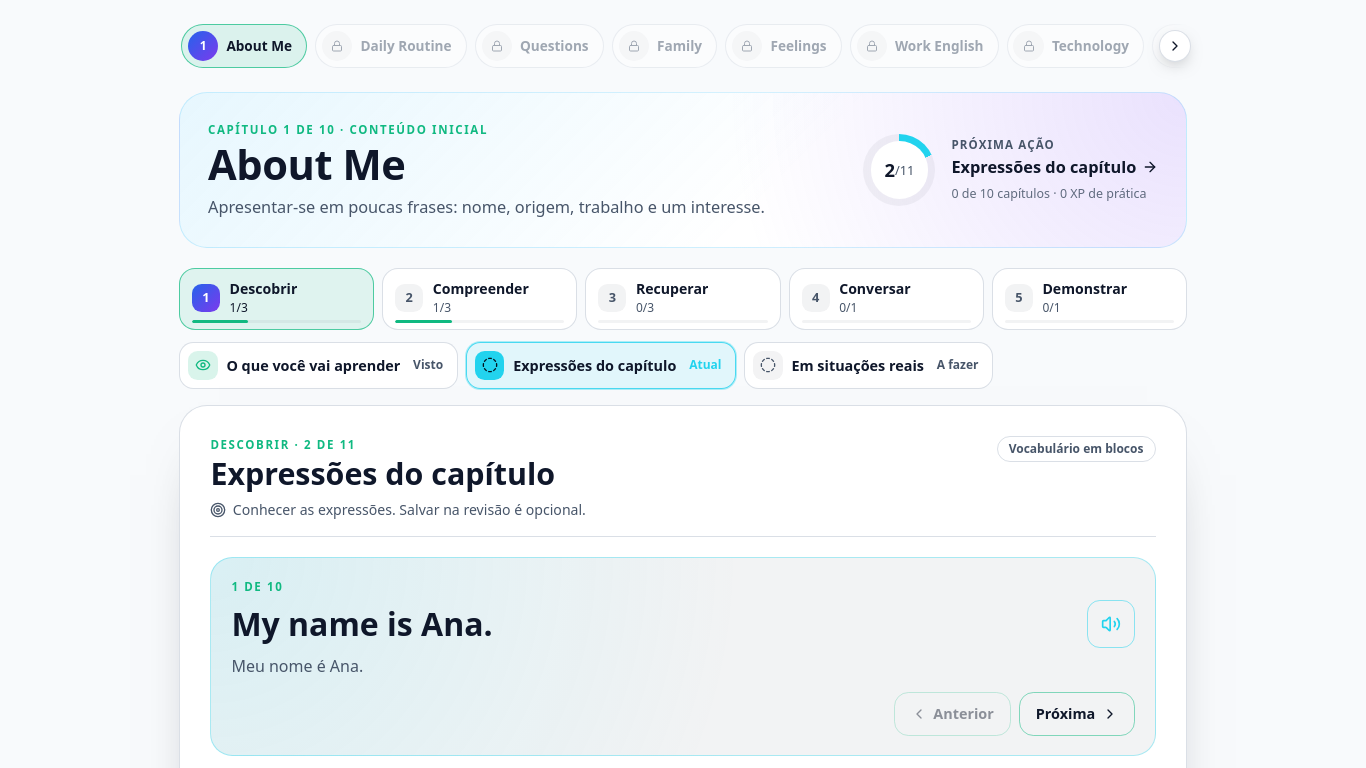
Test: Journey 2.1 navigation and completion › never shows a viewed activity as approved
Expected: the button "O que você vai aprender Visto" is shown, [179,342,458,388]
Click the button "2 Compreender 1/3" at (480, 299), box [382,268,577,330]
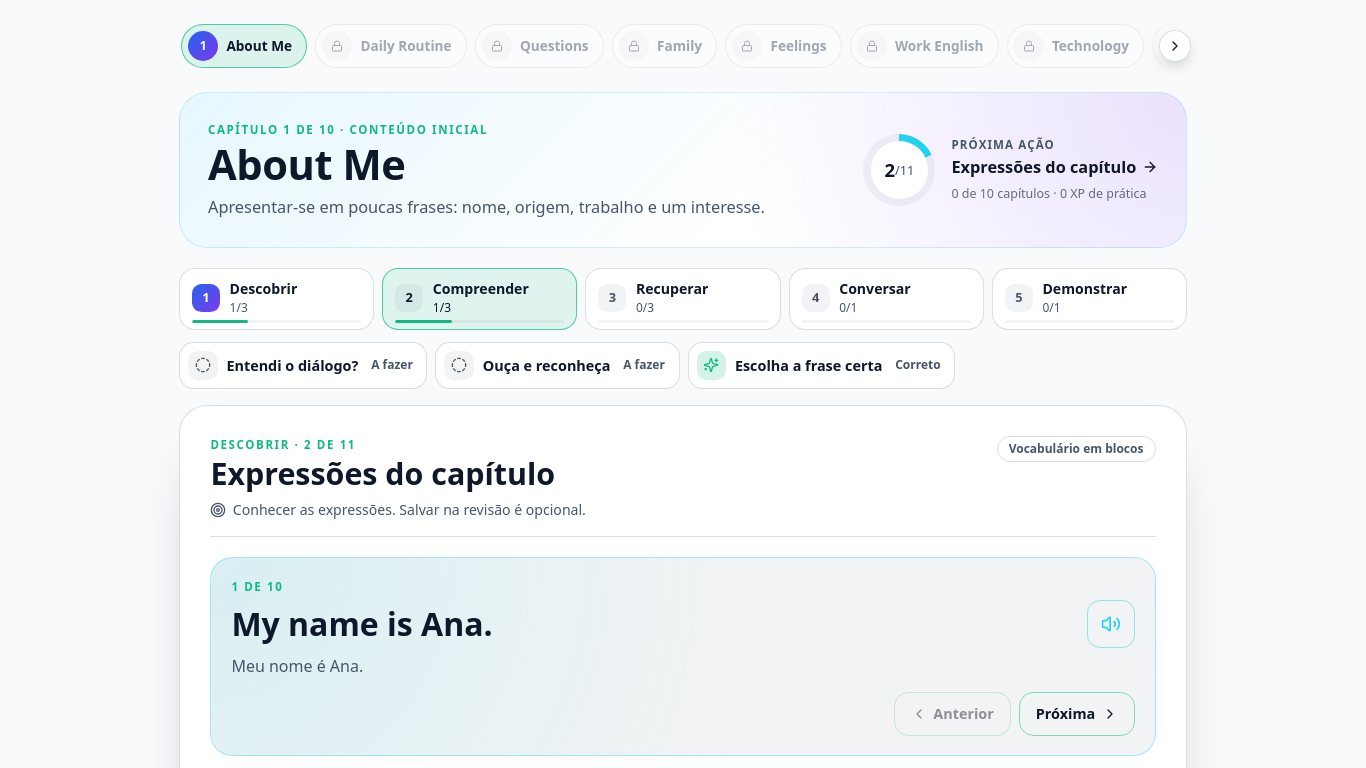
Expected: the button "Escolha a frase certa Correto" is shown, [688,342,955,388]
